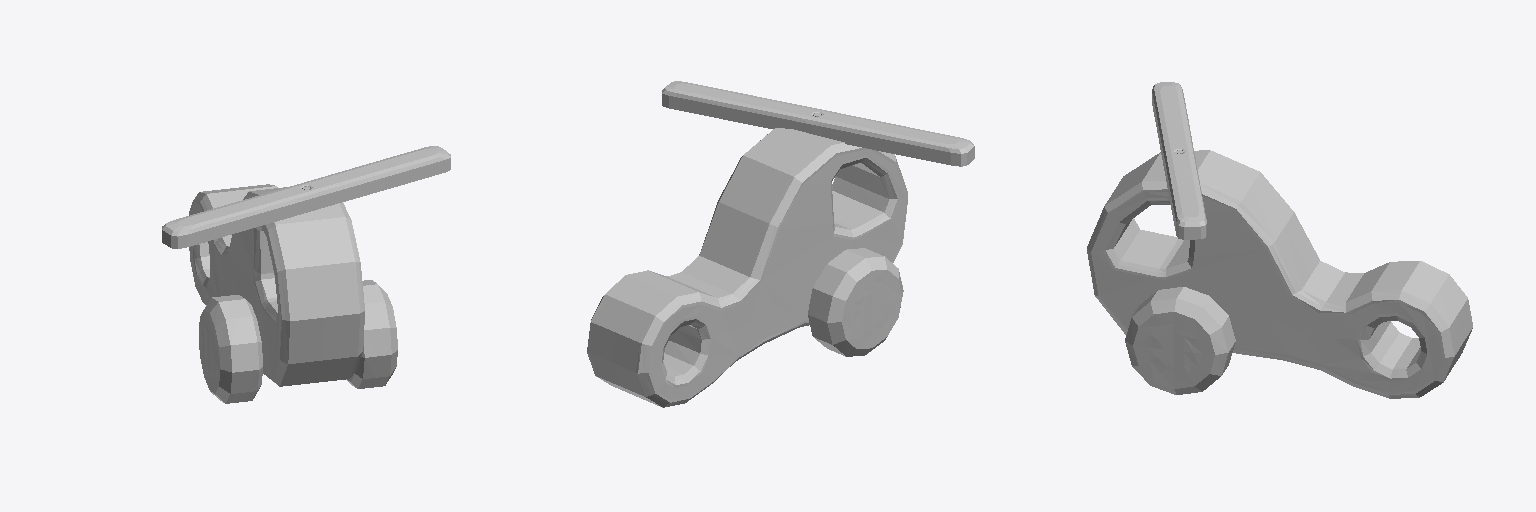
Rendered from Helicoptero_de_Brinquedo.obj.
The picture shows the model from 3 angles: view 1: azimuth 30°, elevation 25°; view 2: azimuth 150°, elevation 25°; view 3: azimuth 270°, elevation 25°; orthographic projection.
Parts seen in each view (by area): view 1: Toy_Train:helicopter; view 2: Toy_Train:helicopter; view 3: Toy_Train:helicopter.
Boxes of the visible parts, box(x1,y1,x2,y2) form: Toy_Train:helicopter: box(162, 146, 450, 403); Toy_Train:helicopter: box(587, 81, 974, 407); Toy_Train:helicopter: box(1087, 82, 1472, 398).
Bounding box in the file's own units: 0.1967 × 0.1345 × 0.2245.